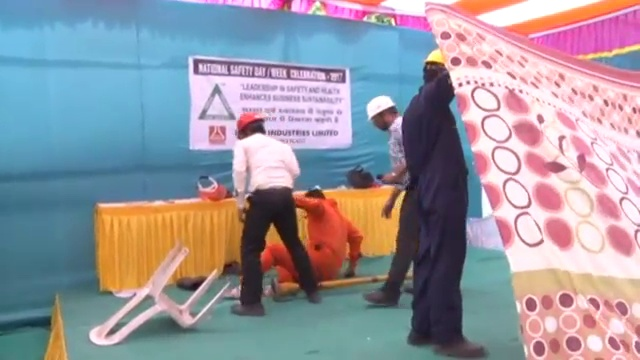helmet: (364, 94, 395, 120), (421, 46, 454, 69), (234, 111, 264, 134)
helmet_on: (363, 94, 400, 132), (418, 45, 447, 89), (231, 109, 267, 141)
person: (401, 47, 489, 357), (230, 109, 321, 323), (251, 180, 366, 295), (360, 94, 414, 309)
